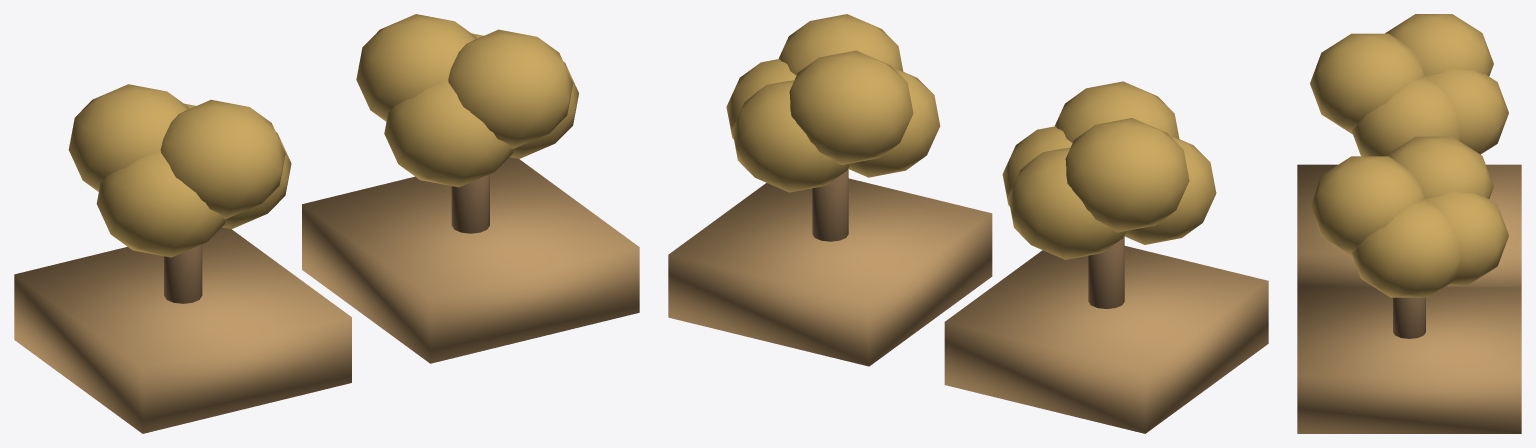
The model's file is prop-tree-nursery.glb.
3 renders of one model, left to right at view 1: azimuth 30°, elevation 25°; view 2: azimuth 150°, elevation 25°; view 3: azimuth 270°, elevation 25°, orthographic. The views are drawn at different scales.
Parts seen in each view (by area): view 1: prop-tree-nursery_wood, prop-tree-nursery_leaf, prop-tree-nursery_bark; view 2: prop-tree-nursery_wood, prop-tree-nursery_leaf, prop-tree-nursery_bark; view 3: prop-tree-nursery_leaf, prop-tree-nursery_wood, prop-tree-nursery_bark.
Boxes of the visible parts, box(x1,y1,x2,y2) form: prop-tree-nursery_wood: box(14, 157, 639, 433); prop-tree-nursery_leaf: box(68, 14, 578, 257); prop-tree-nursery_bark: box(164, 174, 489, 303); prop-tree-nursery_wood: box(668, 178, 1268, 433); prop-tree-nursery_leaf: box(726, 14, 1216, 259); prop-tree-nursery_bark: box(812, 169, 1124, 308); prop-tree-nursery_leaf: box(1310, 14, 1508, 297); prop-tree-nursery_wood: box(1297, 164, 1521, 433); prop-tree-nursery_bark: box(1393, 297, 1425, 338).
Bounding box in the file's own units: 1.9 × 0.98 × 0.85.
